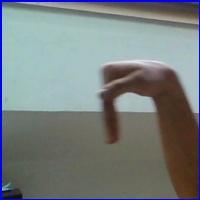del: (90, 54, 186, 152)
